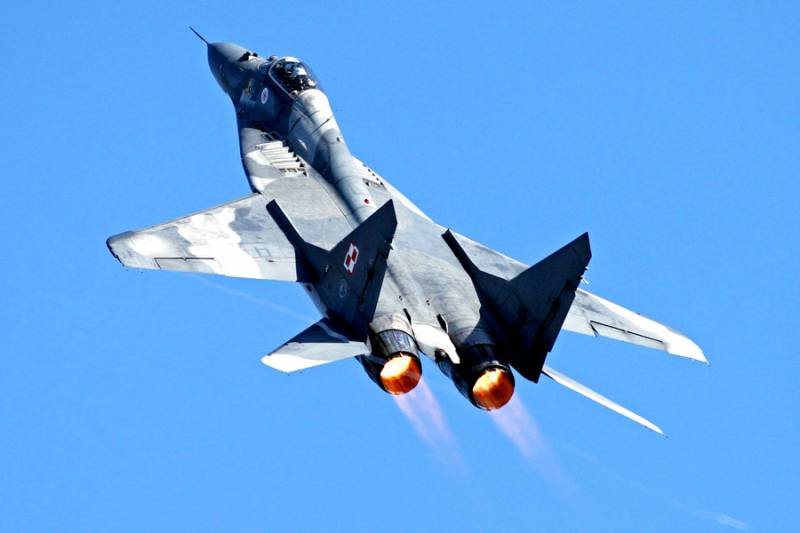Mig-29: (108, 8, 715, 470)
